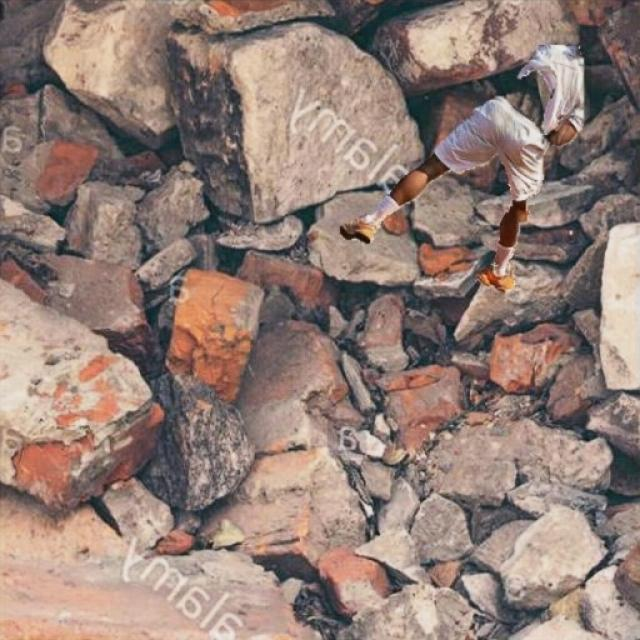Person in Rubble: (340, 45, 582, 291)
